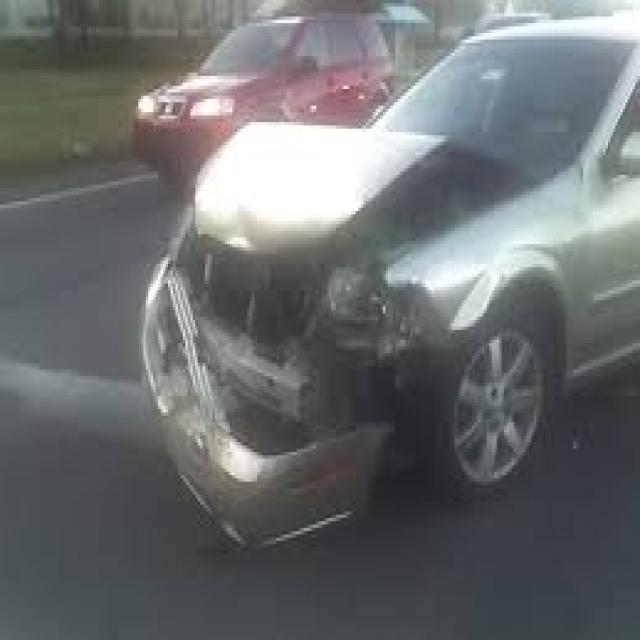severe: (97, 158, 583, 532)
